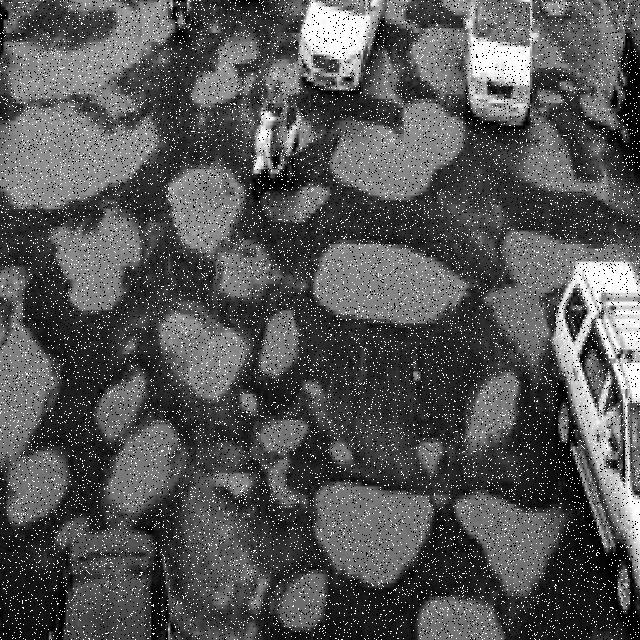pothole: (0, 0, 170, 213), (313, 240, 480, 328), (330, 103, 466, 200), (316, 486, 432, 587), (456, 495, 563, 596), (0, 275, 54, 466), (156, 306, 247, 403), (113, 425, 175, 513)
